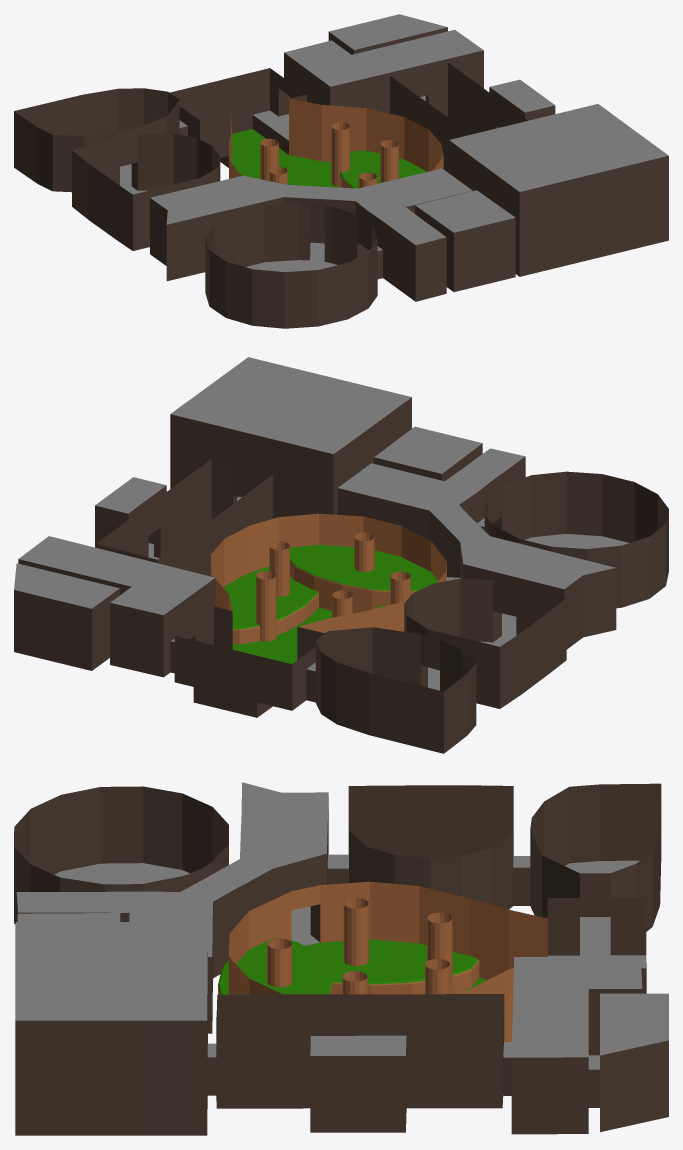
Rendered from Fulltestlevel.fbx.
3 views of the same model, one above another, from view 1: azimuth 30°, elevation 25°; view 2: azimuth 150°, elevation 25°; view 3: azimuth 270°, elevation 25° (orthographic). The views are drawn at different scales.
Parts seen in each view (by area): view 1: Fulltestlevel; view 2: Fulltestlevel; view 3: Fulltestlevel.
Part boxes in pixels (x1,y1,x2,y2): Fulltestlevel: [14, 14, 668, 328]; Fulltestlevel: [14, 357, 668, 753]; Fulltestlevel: [14, 782, 668, 1135].
Bounding box in the file's own units: 155 × 35.02 × 155.
